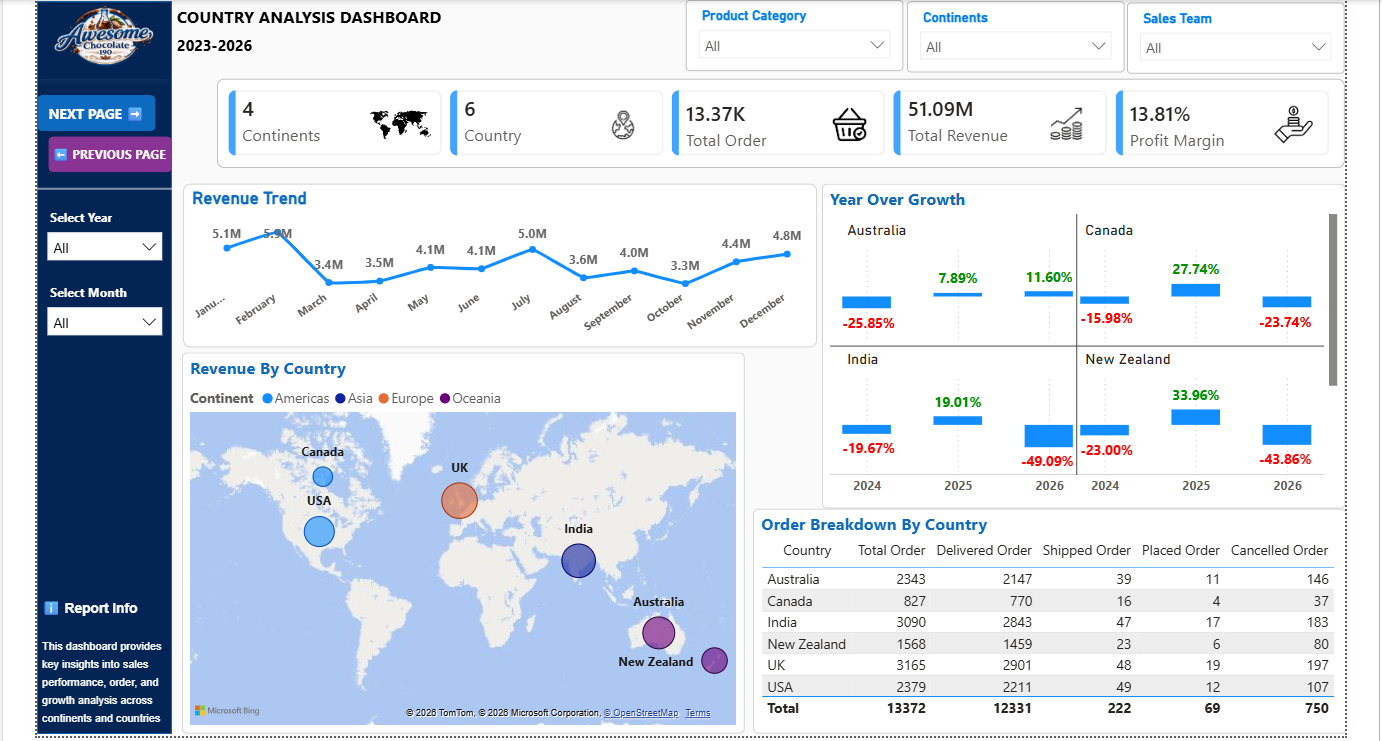

Layout of this report page (visuals, bound fields, positions):
{"tool":"powerbi","page":{"name":"🌐 COUNTRY ANALYSIS","canvas":[1280,720],"ordinal":1},"visuals":[{"type":"shape","box":[0,1,132,717],"z":0},{"type":"image","box":[0,0,132,77],"z":1000},{"type":"textbox","box":[132.1,0,284.9,48.9],"z":2000},{"type":"slicer","fields":{"Values":["Product_Table.Category"]},"box":[634.7,0,212.8,69.7],"z":3000},{"type":"textbox","box":[132,29,116,32],"z":4000},{"type":"slicer","fields":{"Values":["Date_Table.Date.Variation.Date Hierarchy.Year"]},"box":[0,199.3,132.1,69.7],"z":5000},{"type":"slicer","fields":{"Values":["Date_Table.Date.Variation.Date Hierarchy.Month"]},"box":[0,272.7,132.1,68.5],"z":6000},{"type":"textbox","box":[0,580.8,132.1,139.4],"z":7000},{"type":"slicer","fields":{"Values":["Geography_Table.Continent"]},"box":[851.1,1.2,212.8,69.7],"z":8000},{"type":"slicer","fields":{"Values":["SalesPerson_Table.Team"]},"box":[1066.3,2.4,212.8,69.7],"z":9000},{"type":"map","title":"Revenue By Country","fields":{"Category":["Geography_Table.Country"],"Series":["Geography_Table.Continent"],"Size":["1 Sales Analysis Measures.Total Revenue"]},"box":[141.8,344.8,550.3,373],"z":10000},{"type":"actionButton","box":[0,92.9,116.2,35.5],"z":11000},{"type":"actionButton","box":[11,133.3,121.1,35.5],"z":12000},{"type":"shape","box":[0,178.5,154.1,12.2],"z":13000},{"type":"cardVisual","fields":{"Data":["3 Continents Measures.Total Continents","3 Continents Measures.Total Country","2 Order Analysis Measures.Total Order","1 Sales Analysis Measures.Total Revenue","1 Sales Analysis Measures.Profit%"]},"box":[176.1,77,1103,86.8],"z":16000},{"type":"tableEx","title":"Order Breakdown By Country","fields":{"Values":["Geography_Table.Country","2 Order Analysis Measures.Total Order","2 Order Analysis Measures.Delivered Order","2 Order Analysis Measures.Shipped Order","2 Order Analysis Measures.Placed Order","2 Order Analysis Measures.Cancelled Order"]},"box":[700.7,497.7,579.6,220.1],"z":16250},{"type":"clusteredColumnChart","title":"Year Over Growth","fields":{"Category":["Date_Table.Date.Variation.Date Hierarchy.Year"],"Rows":["Geography_Table.Country"],"Y":["6 Time Intelligence Measures.YOYGrowth%"]},"box":[767.6,179.8,512.4,317.9],"z":16500},{"type":"lineChart","title":"Revenue Trend","fields":{"Category":["Date_Table.Date.Variation.Date Hierarchy.Year","Date_Table.Date.Variation.Date Hierarchy.Quarter","Date_Table.Date.Variation.Date Hierarchy.Month","Date_Table.Date.Variation.Date Hierarchy.Day"],"Y":["1 Sales Analysis Measures.Total Revenue"]},"box":[143.1,179.8,620,160.2],"z":17000}]}

Visuals, with their boxes on the page's 1280x720 design canvas (x1, y1, x2, y2). These are canvas units, not pixel positions in the 1382x741 screenshot, which may show the page scaled, cropped or inside an application window:
shape: Rect(0, 1, 132, 718)
image: Rect(0, 0, 132, 77)
textbox: Rect(132, 0, 417, 49)
slicer - Product_Table.Category: Rect(635, 0, 848, 70)
textbox: Rect(132, 29, 248, 61)
slicer - Date_Table.Date.Variation.Date Hierarchy.Year: Rect(0, 199, 132, 269)
slicer - Date_Table.Date.Variation.Date Hierarchy.Month: Rect(0, 273, 132, 341)
textbox: Rect(0, 581, 132, 720)
slicer - Geography_Table.Continent: Rect(851, 1, 1064, 71)
slicer - SalesPerson_Table.Team: Rect(1066, 2, 1279, 72)
"Revenue By Country" map: Rect(142, 345, 692, 718)
actionButton: Rect(0, 93, 116, 128)
actionButton: Rect(11, 133, 132, 169)
shape: Rect(0, 178, 154, 191)
cardVisual - 3 Continents Measures.Total Continents x 3 Continents Measures.Total Country: Rect(176, 77, 1279, 164)
"Order Breakdown By Country" tableEx: Rect(701, 498, 1280, 718)
"Year Over Growth" clusteredColumnChart: Rect(768, 180, 1280, 498)
"Revenue Trend" lineChart: Rect(143, 180, 763, 340)
